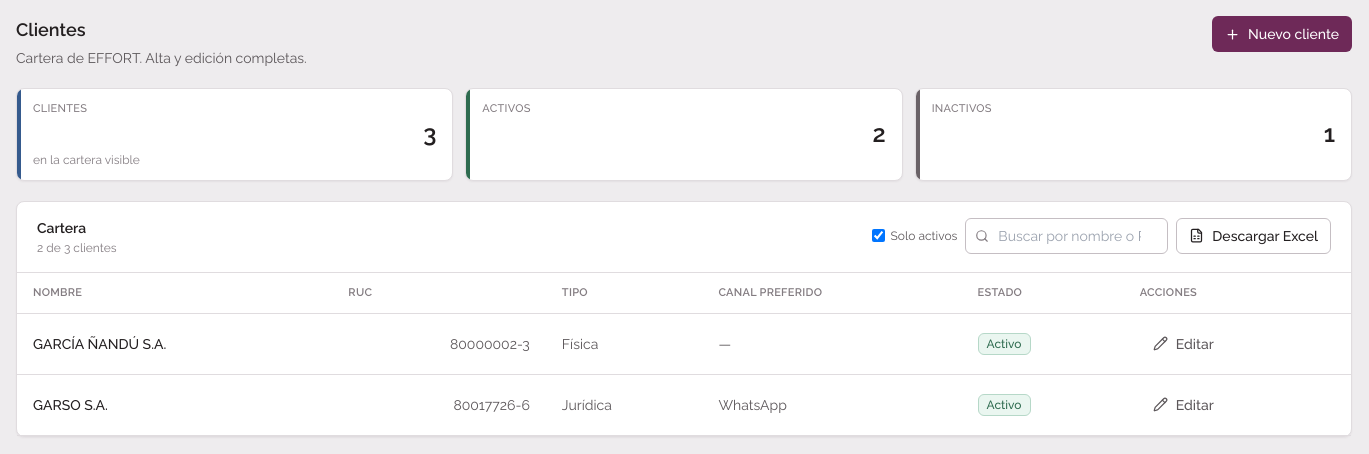
Test: pantalla de clientes › búsqueda de cliente (2026-10-02) › los indicadores cuentan lo que coincide con la búsqueda, activos e inactivos, aunque «Solo activos» oculte filas de la tabla
Expected: the text "GARSO S.A." is shown, [17,374,332,435]
Expected: the button "Nuevo cliente" is shown, [1212,16,1352,52]
In the search field named "Buscar cliente": (1067, 236) [965,218,1168,254], type "viejo"
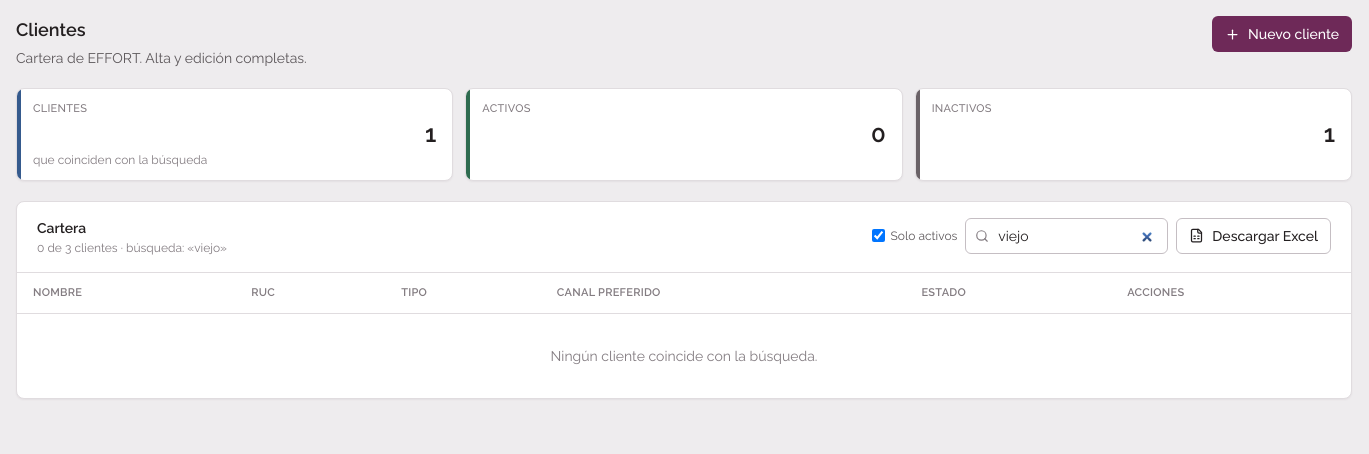
Expected: the text "Clientes" shows "1", [425,118,436,148]
Expected: the text "Activos" reads "Activos 0", [465,88,903,180]
Expected: the text "Ningún cliente coincide con la búsqueda." is shown, [17,313,1351,398]
Click the checkbox labelled "Solo activos": (878, 236) [872,229,884,242]
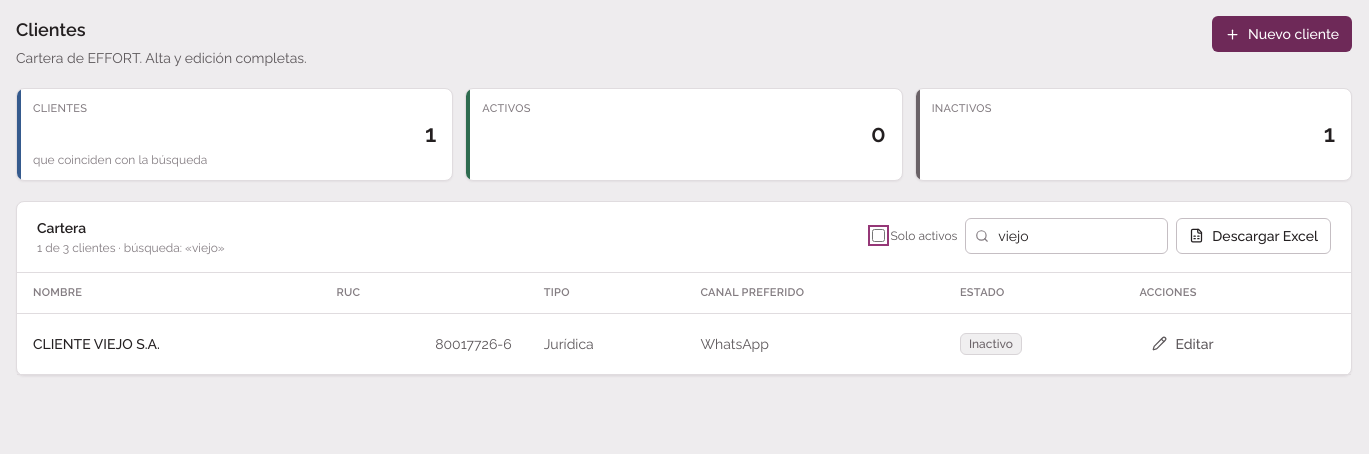
Expected: the text "CLIENTE VIEJO S.A." is shown, [17,313,320,374]
